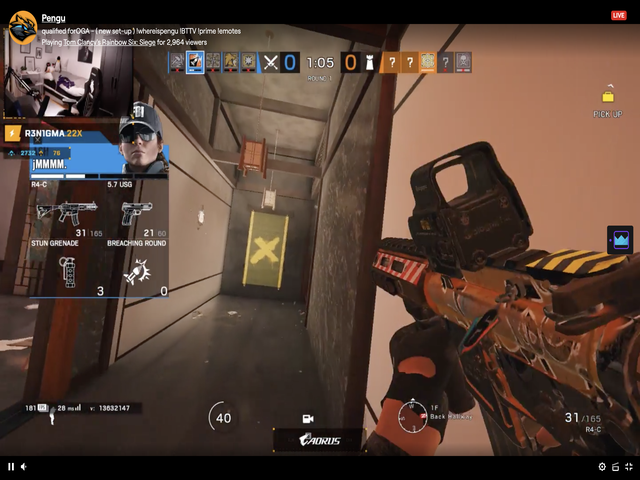0_blue: (282, 50, 303, 76)
